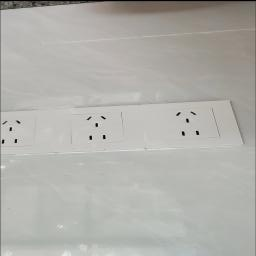outlet: (0, 101, 250, 158)
